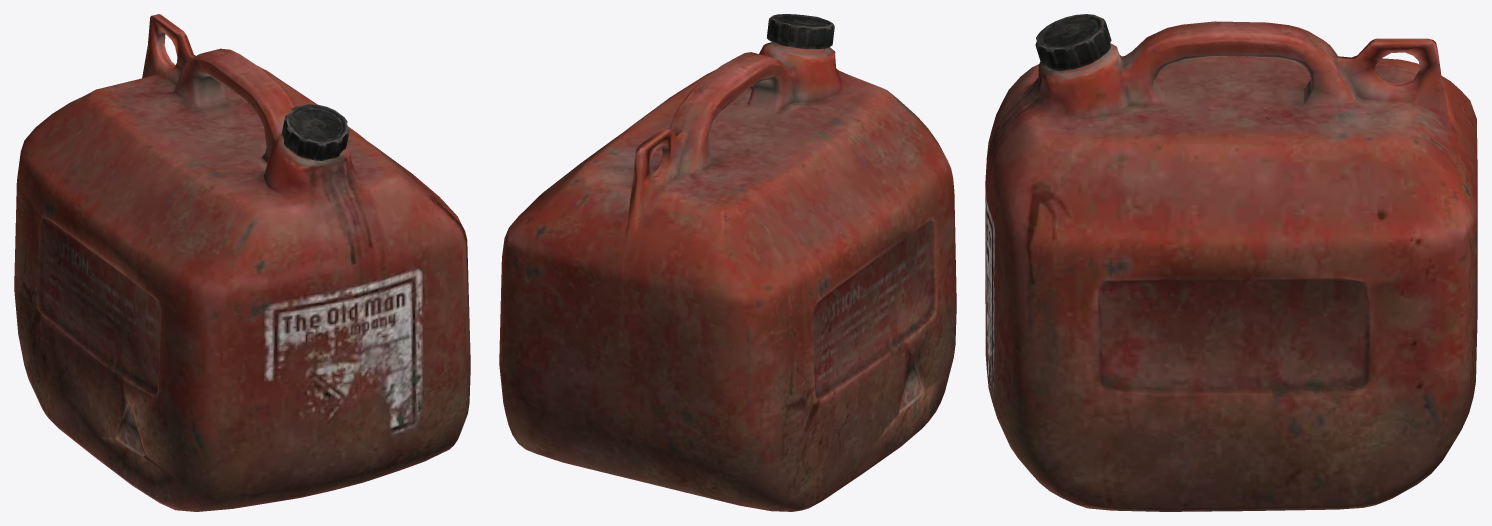
File: obj-bidon.26fc84.glb
3 renders of one model, left to right at view 1: azimuth 30°, elevation 25°; view 2: azimuth 150°, elevation 25°; view 3: azimuth 270°, elevation 25°, orthographic. The views are drawn at different scales.
Parts seen in each view (by area): view 1: plastic_jerrycan; view 2: plastic_jerrycan; view 3: plastic_jerrycan.
Boxes of the visible parts, x1,y1,x2,y2 form: plastic_jerrycan: (14,14,470,511); plastic_jerrycan: (499,14,956,511); plastic_jerrycan: (985,14,1477,511).
Bounding box in the file's own units: 0.268 × 0.3184 × 0.3406.
Materials: 1 (1 with a texture image).
